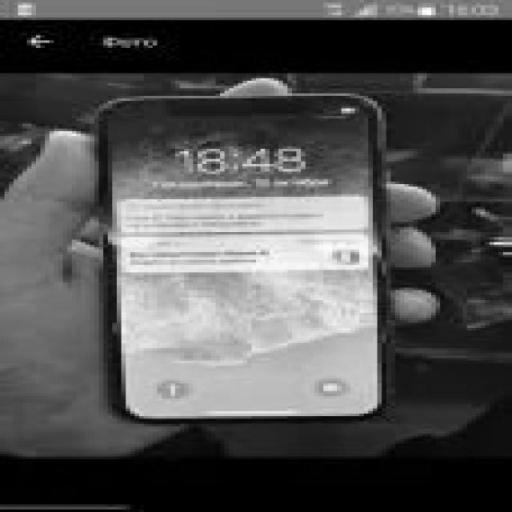phone: (92, 96, 397, 424)
